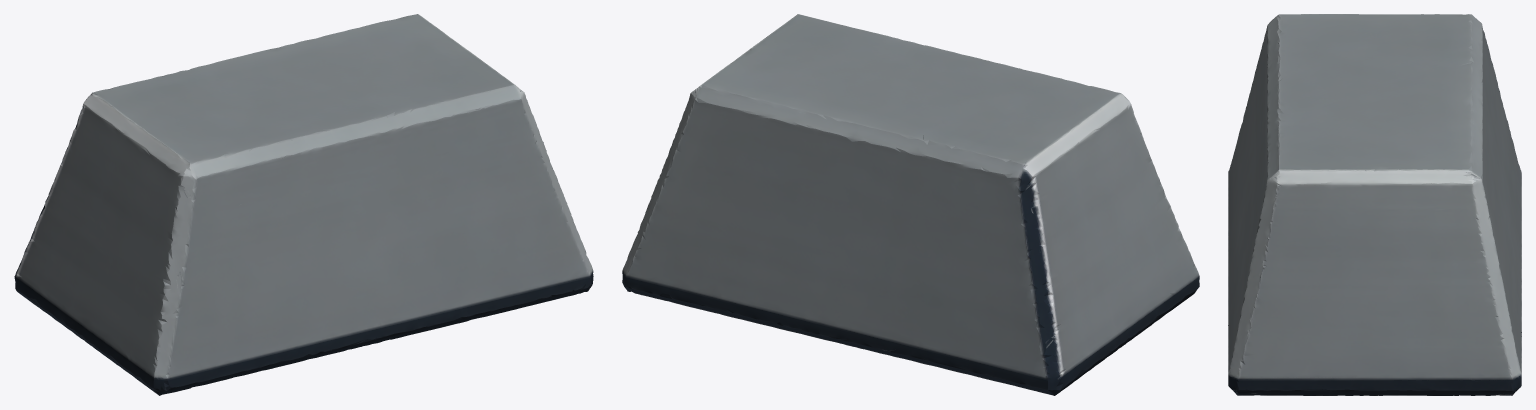
File: ingot_iron.glb
The picture shows the model from 3 angles, left to right: view 1: azimuth 30°, elevation 25°; view 2: azimuth 150°, elevation 25°; view 3: azimuth 270°, elevation 25°; orthographic projection.
Parts seen in each view (by area): view 1: ingot_iron; view 2: ingot_iron; view 3: ingot_iron.
Boxes of the visible parts, x1,y1,x2,y2 form: ingot_iron: (14, 14, 593, 395); ingot_iron: (622, 14, 1199, 395); ingot_iron: (1228, 14, 1521, 395).
Bounding box in the file's own units: 1 × 0.4449 × 0.5877.
Materials: 1 (1 with a texture image).
